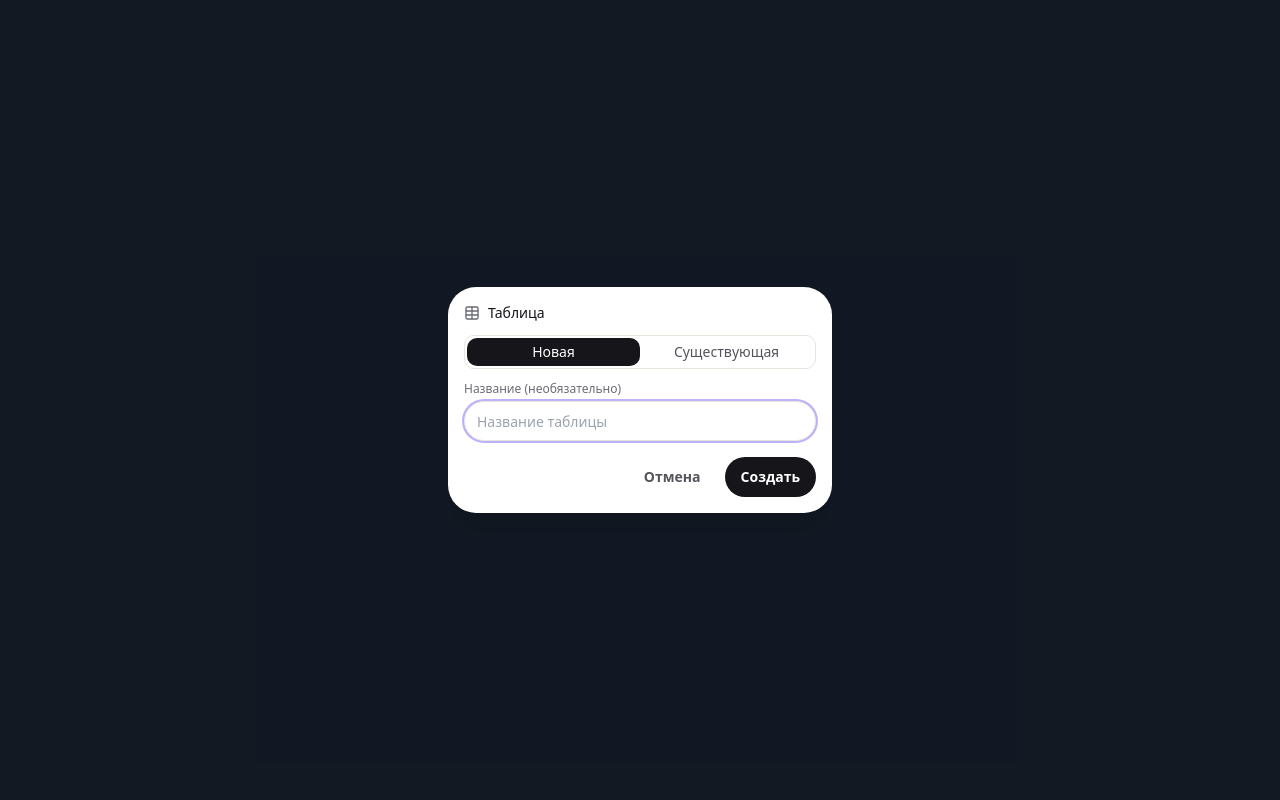
Test case: InsertTableModal › shows an empty-state message when the space has no other tables
This screenshot has width=1280, height=800.
Click the button "Существующая".
click(726, 352)  # box [640, 338, 813, 366]
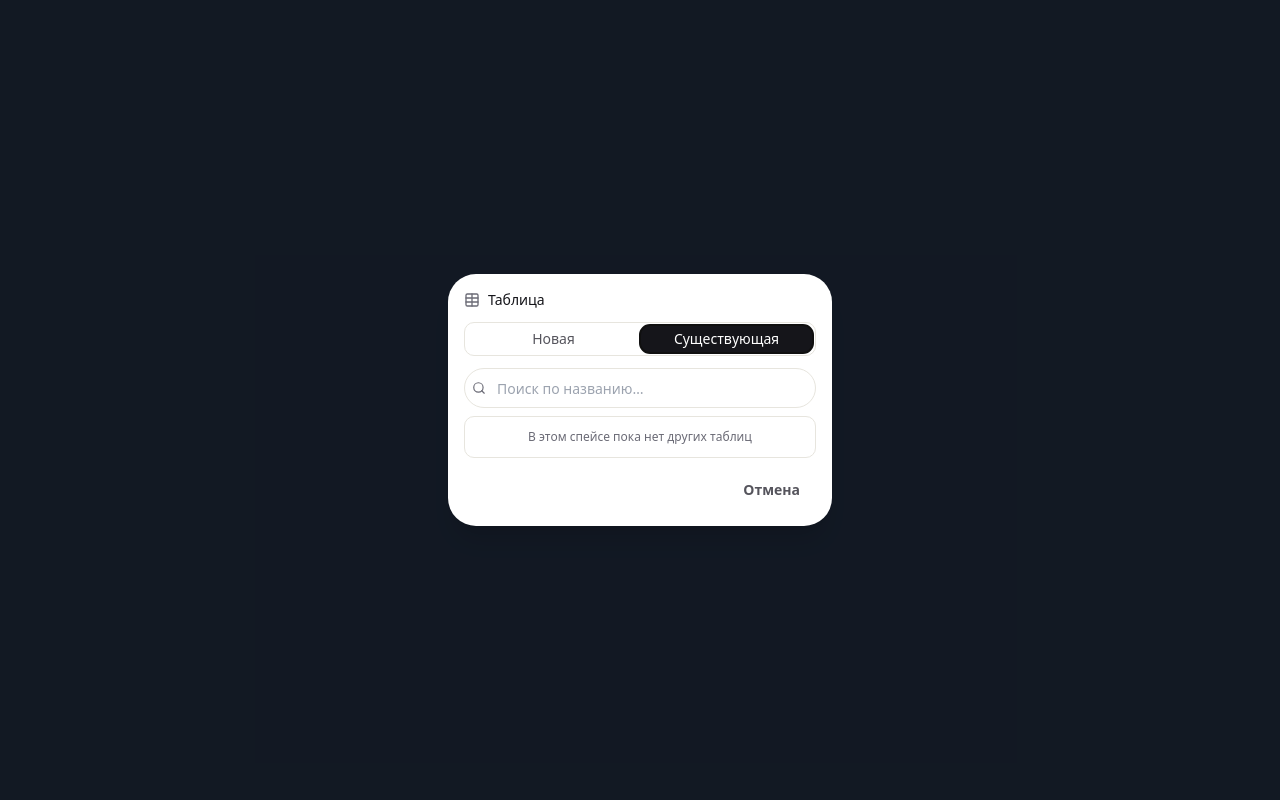
Result: the text "В этом спейсе пока нет других таблиц" is shown at [528, 428, 752, 445]
